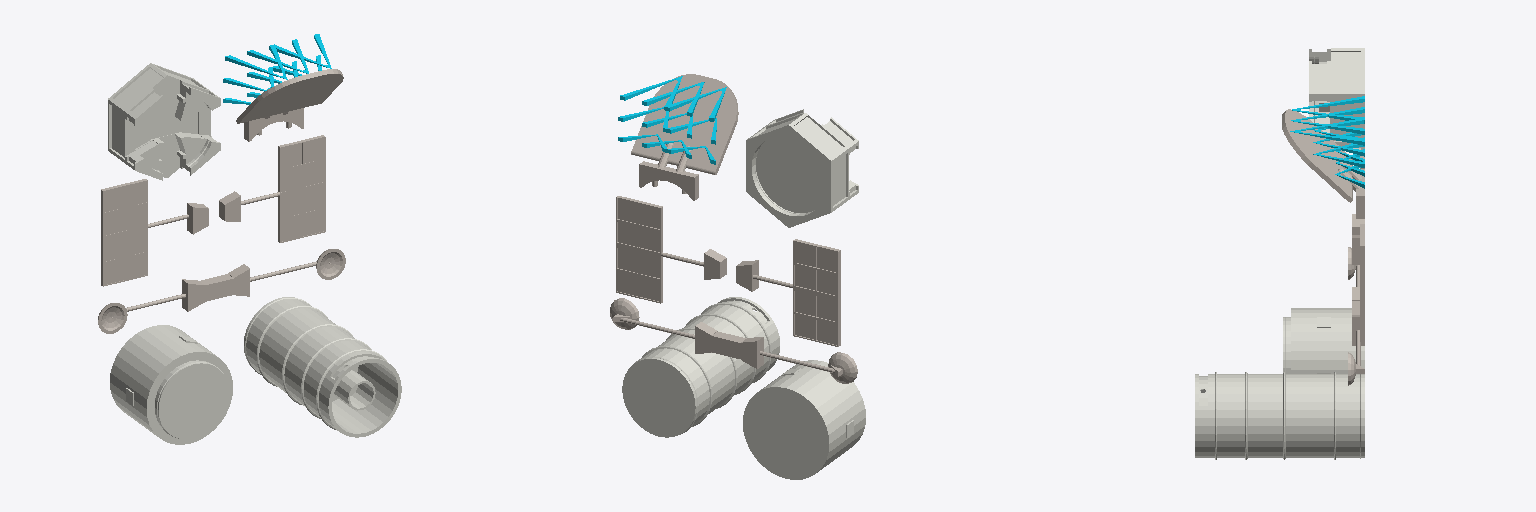
The model's file is hubble_model_kit.obj.
The picture shows the model from 3 angles: view 1: azimuth 30°, elevation 25°; view 2: azimuth 150°, elevation 25°; view 3: azimuth 270°, elevation 25°; orthographic projection.
Bounding box in the file's own units: 67.17 × 91.9 × 39.81.